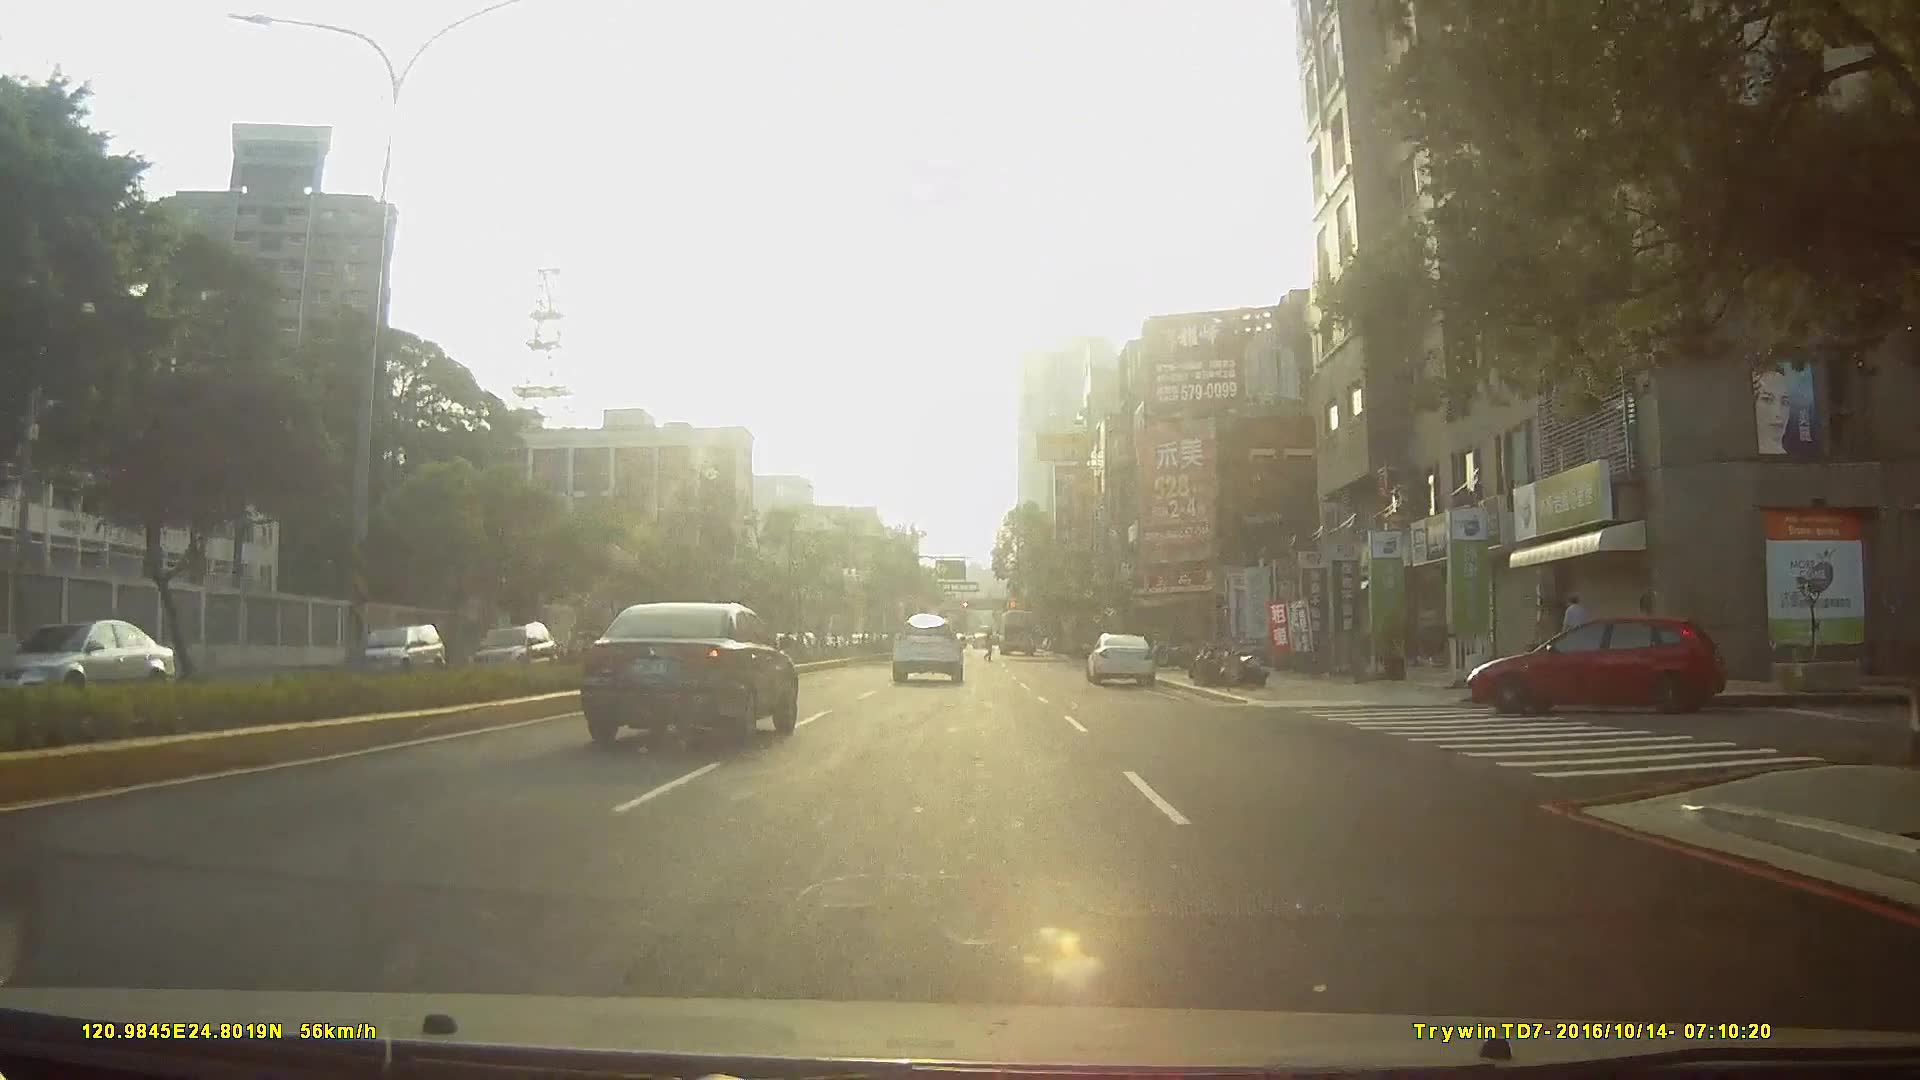pedestrian: (1560, 593, 1590, 670)
vehicle: (584, 598, 801, 742), (1458, 605, 1736, 717), (1, 613, 181, 703), (343, 611, 450, 674), (453, 620, 550, 680), (889, 611, 964, 682), (1085, 630, 1160, 684), (995, 605, 1039, 654)
